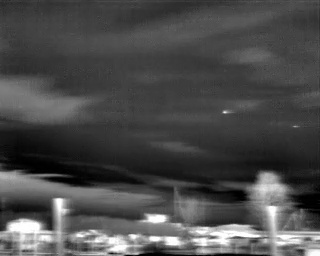BIRD: (220, 107, 234, 118)
